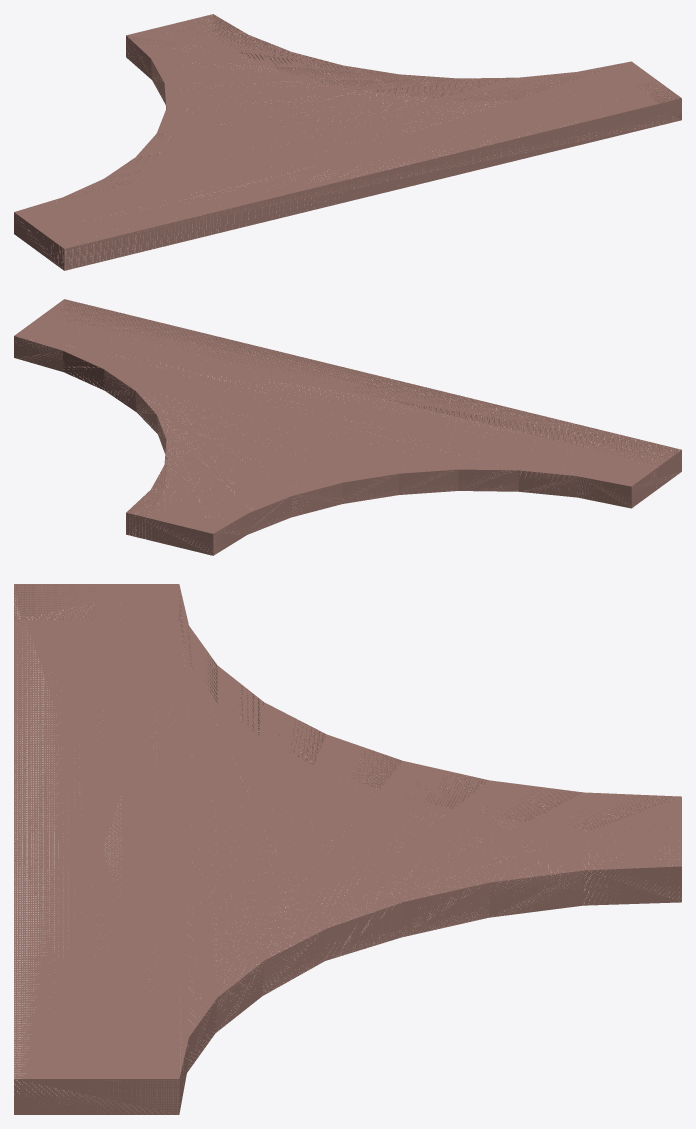
File: SW_ENV_EL_TrackBase_Junction_180Deg_Collision.fbx
The picture shows the model from 3 angles, top to bottom: view 1: azimuth 30°, elevation 25°; view 2: azimuth 150°, elevation 25°; view 3: azimuth 270°, elevation 25°; orthographic projection. The views are drawn at different scales.
Visible parts, largest first — view 1: SW_ENV_EL_TrackBase_Junction_180Deg_Collision; view 2: SW_ENV_EL_TrackBase_Junction_180Deg_Collision; view 3: SW_ENV_EL_TrackBase_Junction_180Deg_Collision.
Boxes of the visible parts, x1,y1,x2,y2 form: SW_ENV_EL_TrackBase_Junction_180Deg_Collision: [14, 14, 681, 270]; SW_ENV_EL_TrackBase_Junction_180Deg_Collision: [14, 299, 681, 555]; SW_ENV_EL_TrackBase_Junction_180Deg_Collision: [14, 584, 681, 1114].
Bounding box in the file's own units: 5450 × 185 × 3110.
